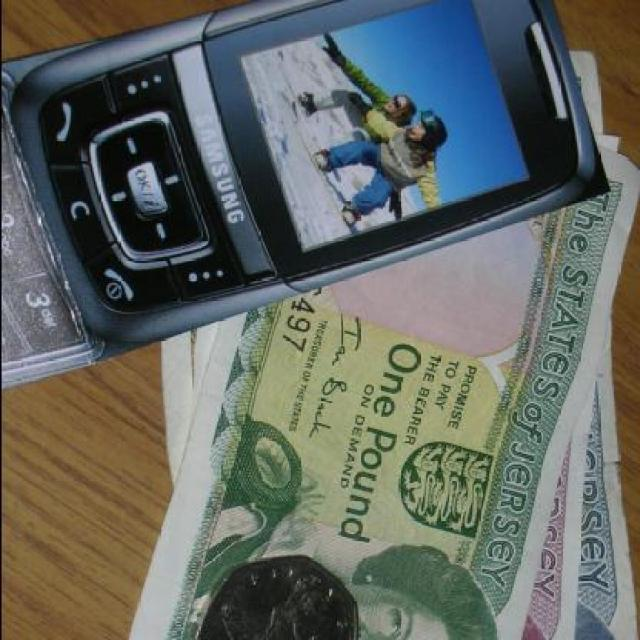phone: (17, 0, 608, 386)
